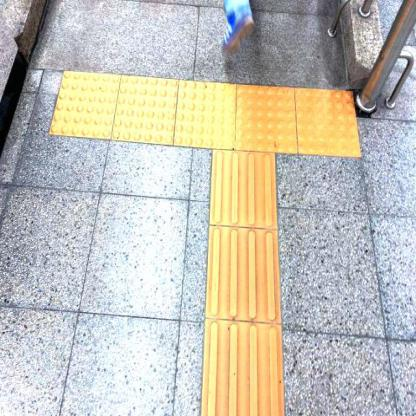podotacti: (56, 78, 366, 153), (202, 156, 278, 413)
